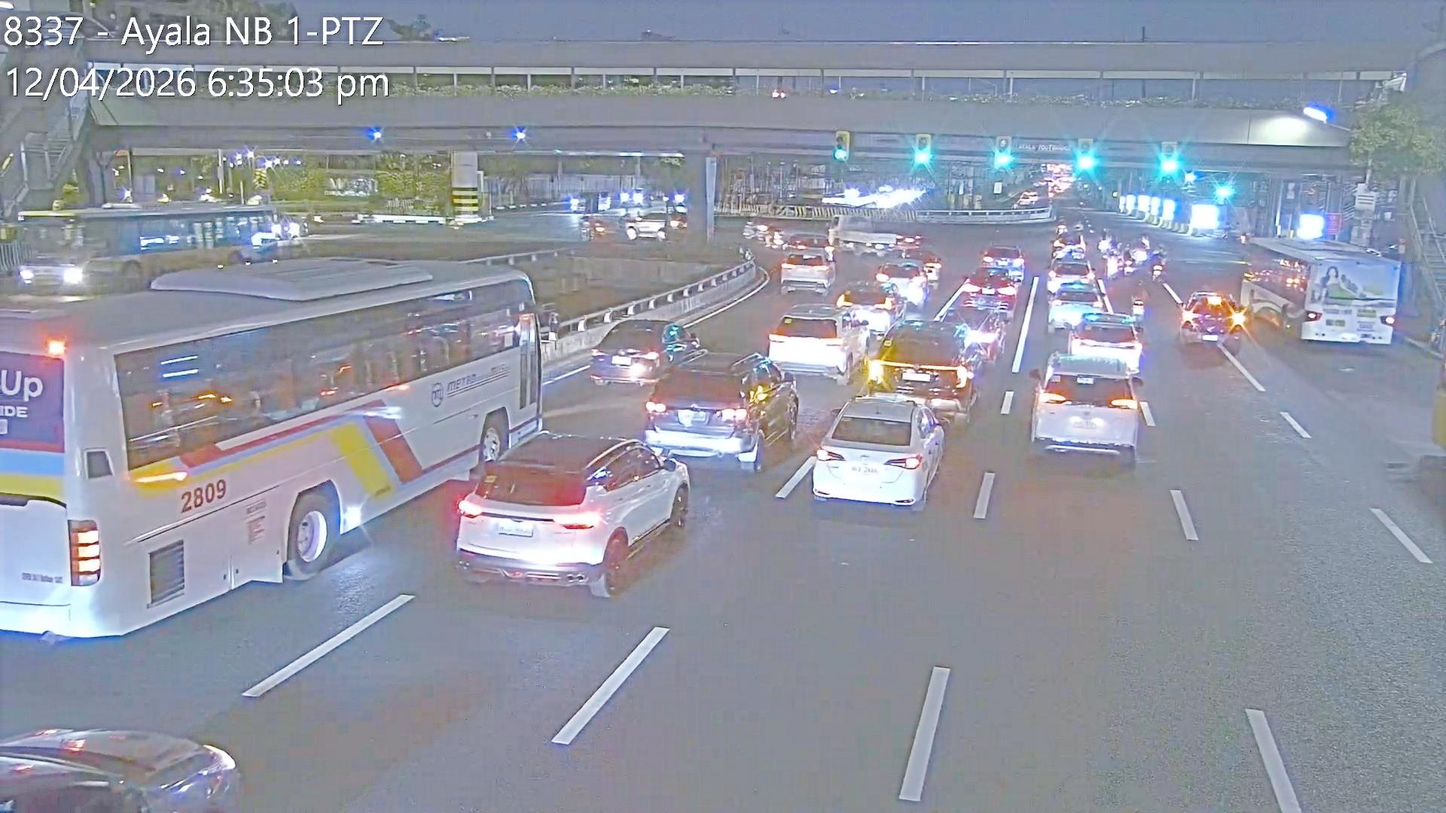Car: (452, 428, 688, 594), (2, 726, 238, 811), (651, 350, 793, 472), (812, 394, 949, 510), (1024, 355, 1141, 465), (880, 317, 993, 425), (771, 305, 874, 383), (590, 317, 697, 386), (1063, 312, 1146, 379), (1176, 289, 1249, 355), (832, 282, 908, 336), (1045, 279, 1109, 333), (871, 257, 935, 305), (776, 246, 838, 295), (960, 264, 1022, 313), (1046, 256, 1100, 296), (888, 243, 944, 280), (621, 209, 679, 242), (779, 231, 833, 265), (981, 243, 1028, 278), (1054, 227, 1086, 259)
Motor: (1130, 277, 1151, 318), (743, 211, 770, 241), (1103, 248, 1120, 279), (1133, 231, 1147, 267), (1150, 248, 1163, 282), (1121, 244, 1134, 276), (1096, 227, 1112, 250), (1054, 215, 1068, 234)
Not Accident: (596, 310, 795, 468), (816, 324, 981, 510), (840, 247, 938, 326), (1048, 236, 1099, 330), (957, 241, 1020, 316), (770, 227, 837, 294), (1112, 226, 1153, 277)
